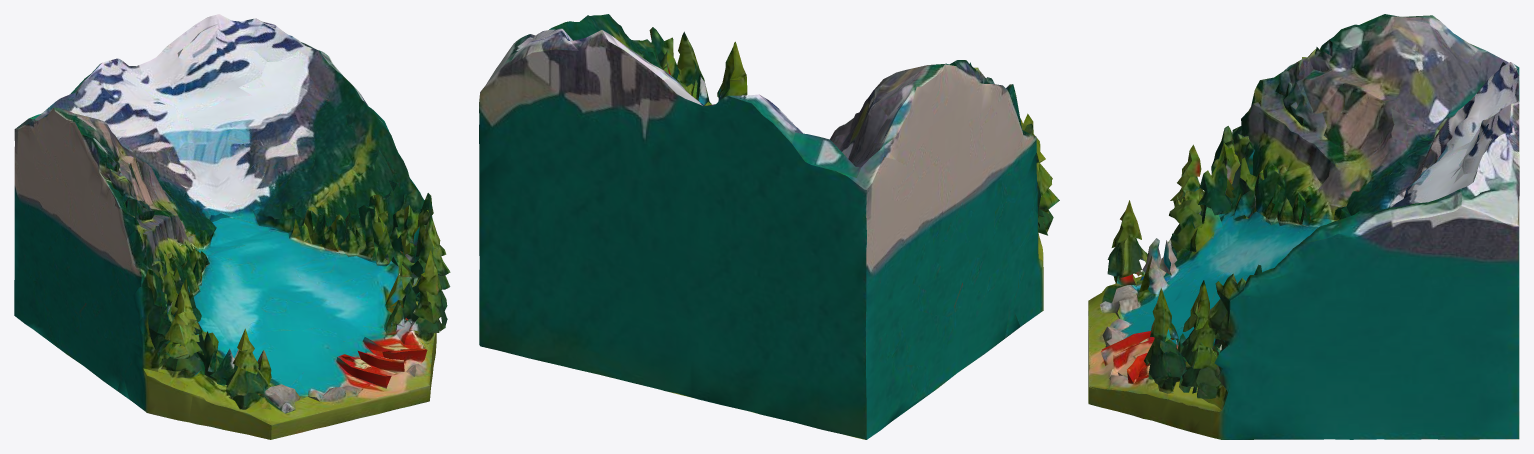
Rendered from lake-louise.glb.
3 views of the same model, side by side, from view 1: azimuth 30°, elevation 25°; view 2: azimuth 150°, elevation 25°; view 3: azimuth 270°, elevation 25° (orthographic). The views are drawn at different scales.
Visible parts, largest first — view 1: logan-textured.obj; view 2: logan-textured.obj; view 3: logan-textured.obj.
Boxes of the visible parts, x1,y1,x2,y2 form: logan-textured.obj: (14, 14, 450, 439); logan-textured.obj: (479, 14, 1059, 439); logan-textured.obj: (1088, 14, 1519, 439).
Size of the model in its own units: 0.8803 by 0.7366 by 1.
Materials: 1 (1 with a texture image).
